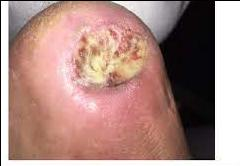Stage3: (60, 15, 158, 117)
